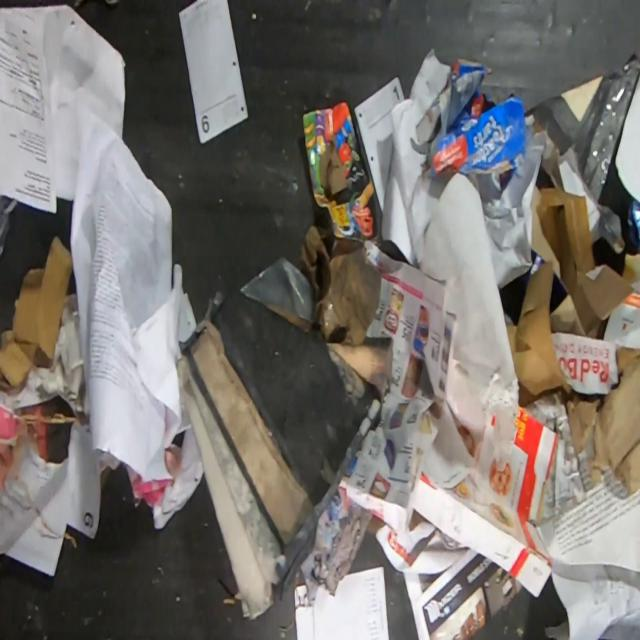cardboard: (185, 293, 374, 549), (507, 187, 639, 495), (409, 396, 561, 599), (567, 53, 640, 254), (426, 56, 530, 180), (0, 235, 73, 395), (627, 201, 640, 255)
